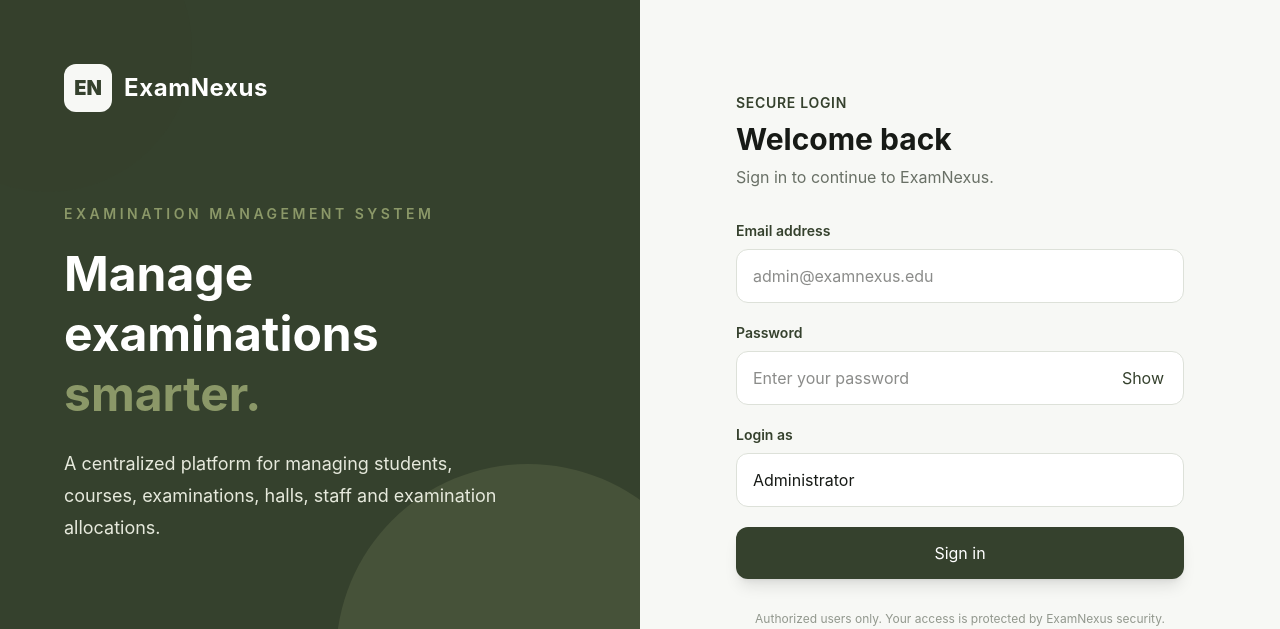
Test: Phase 1 — Authentication › AUTH-01: valid admin credentials land on the Admin Dashboard
The width and height of the screenshot is (1280, 629).
Check: the heading "Welcome back" is shown, box [736,121,952,157]
Type "admin@example.com" into the field with placeholder "admin@examnexus.edu". click: (960, 276)
box: [736,249,1184,303]
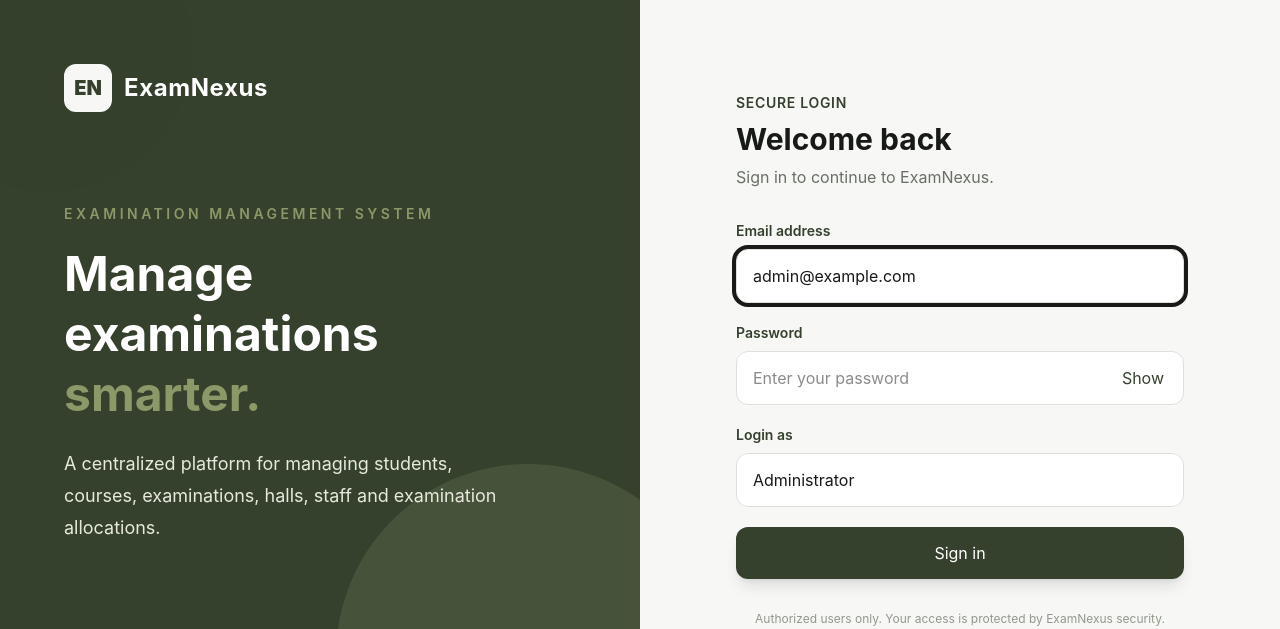
Type "correct-password" into the password field with placeholder "Enter your password". click: (960, 378)
box: [736,351,1184,405]
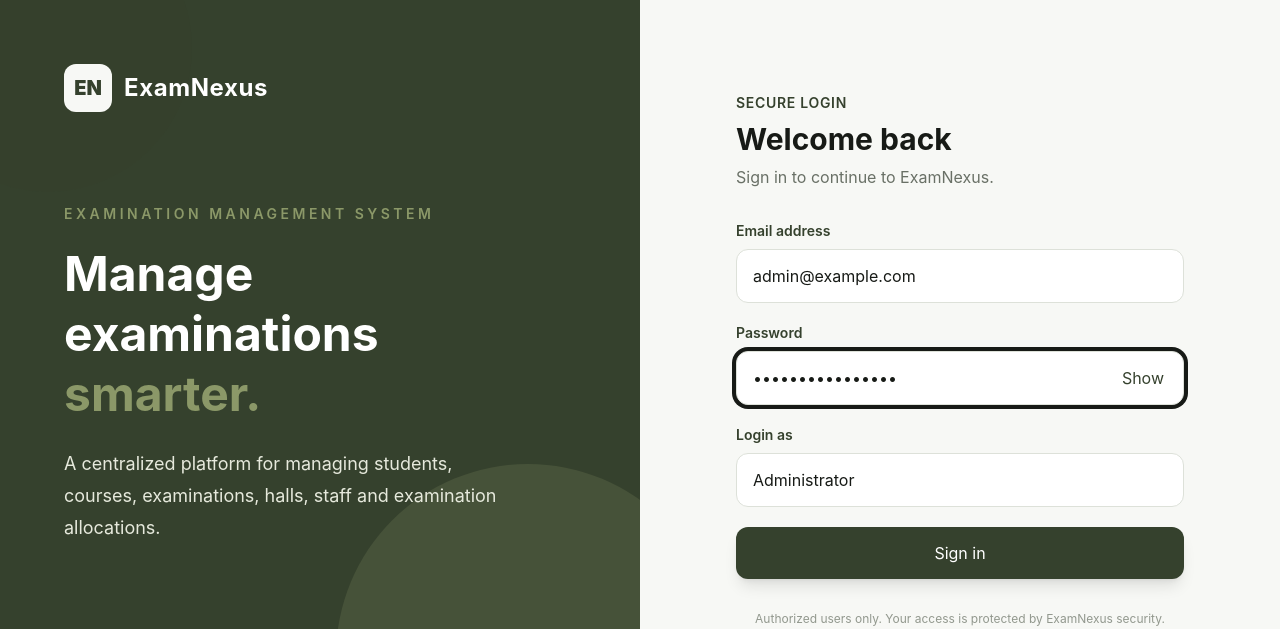
Click the button "Sign in". click: (960, 553)
box: [736,527,1184,579]
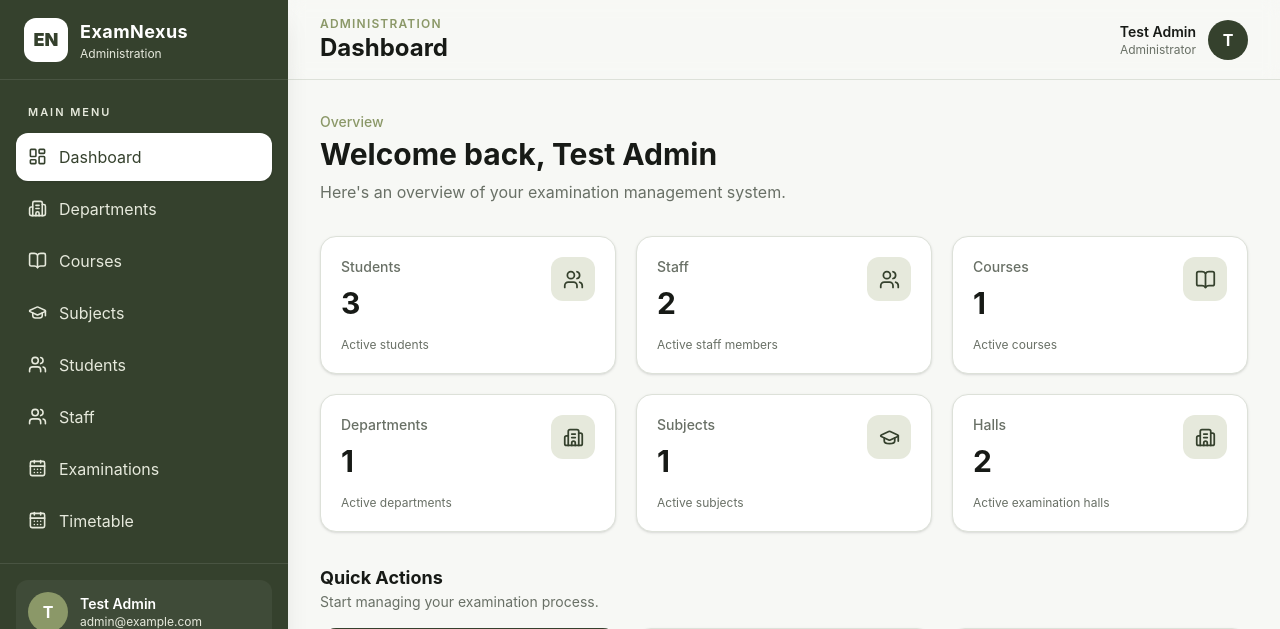
Check: the heading "Dashboard" is shown, box [320,32,448,64]
